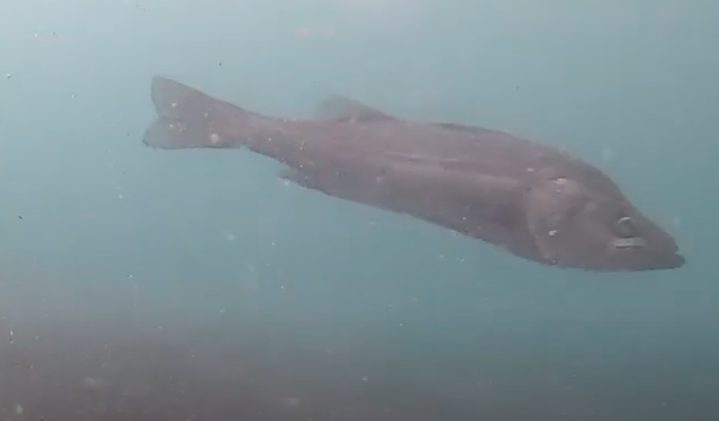suzuki: (129, 44, 698, 288)
